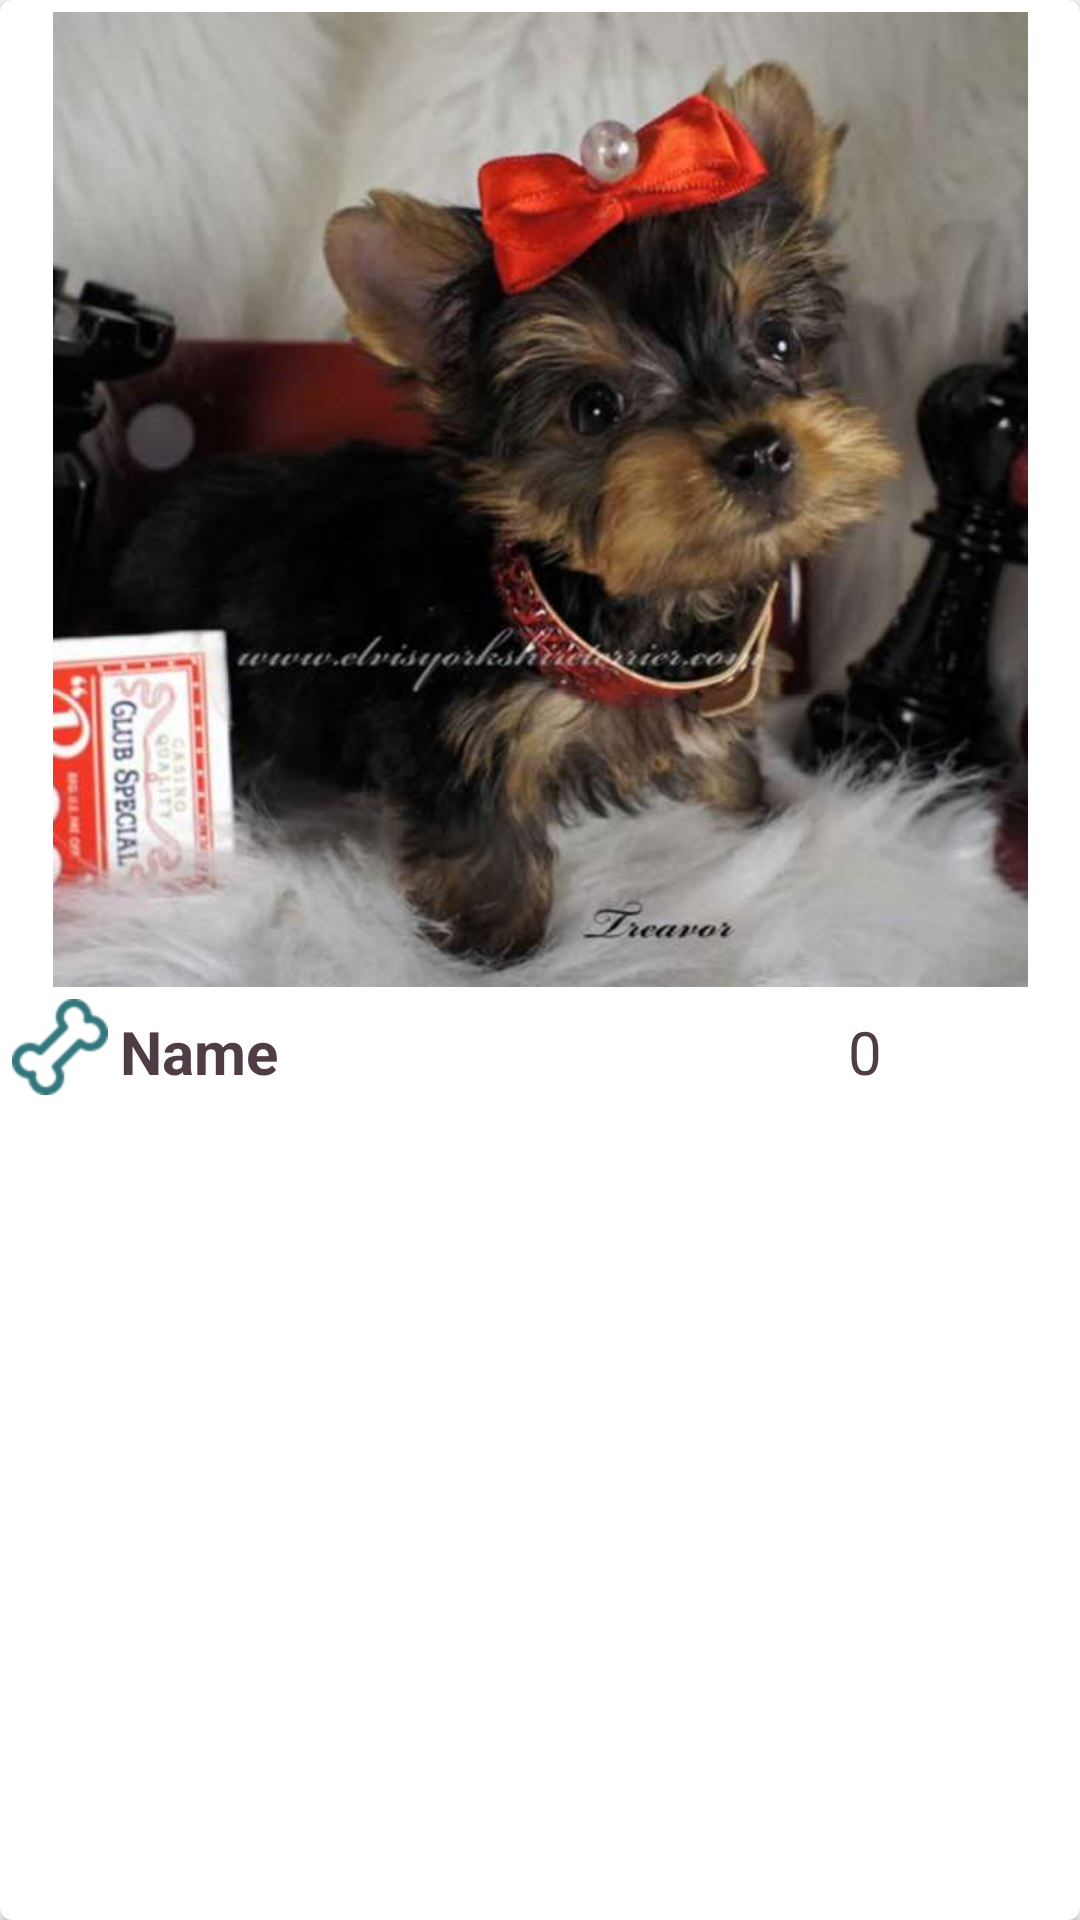

Screen size 1080*1920. Icon name, then its center in pixels as (x,y):
dogbone: (60,1047)
